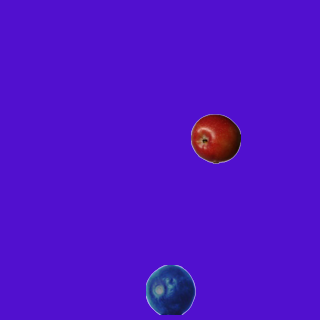Apple Braeburn: (190, 113, 240, 163)
Huckleberry: (145, 264, 195, 314)
